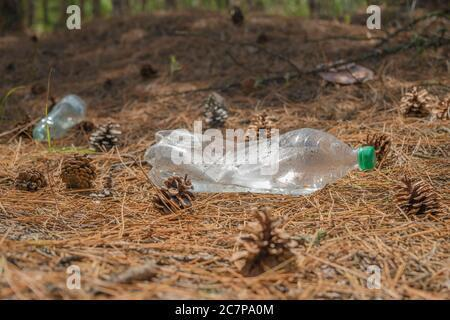bottle: (142, 118, 383, 206), (27, 88, 88, 156)
